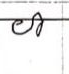i_matra: (34, 12, 42, 37)
